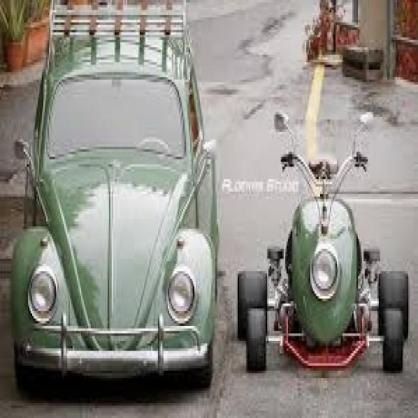car: (13, 29, 218, 391)
